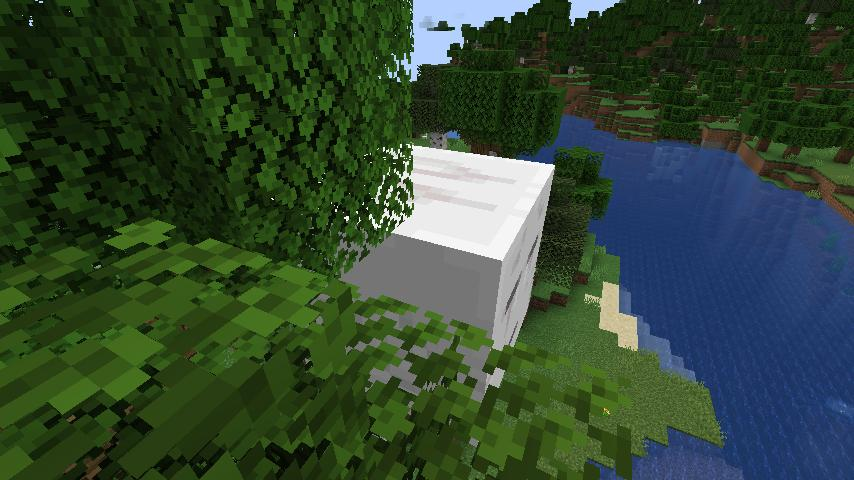ghast: (335, 142, 557, 388)
